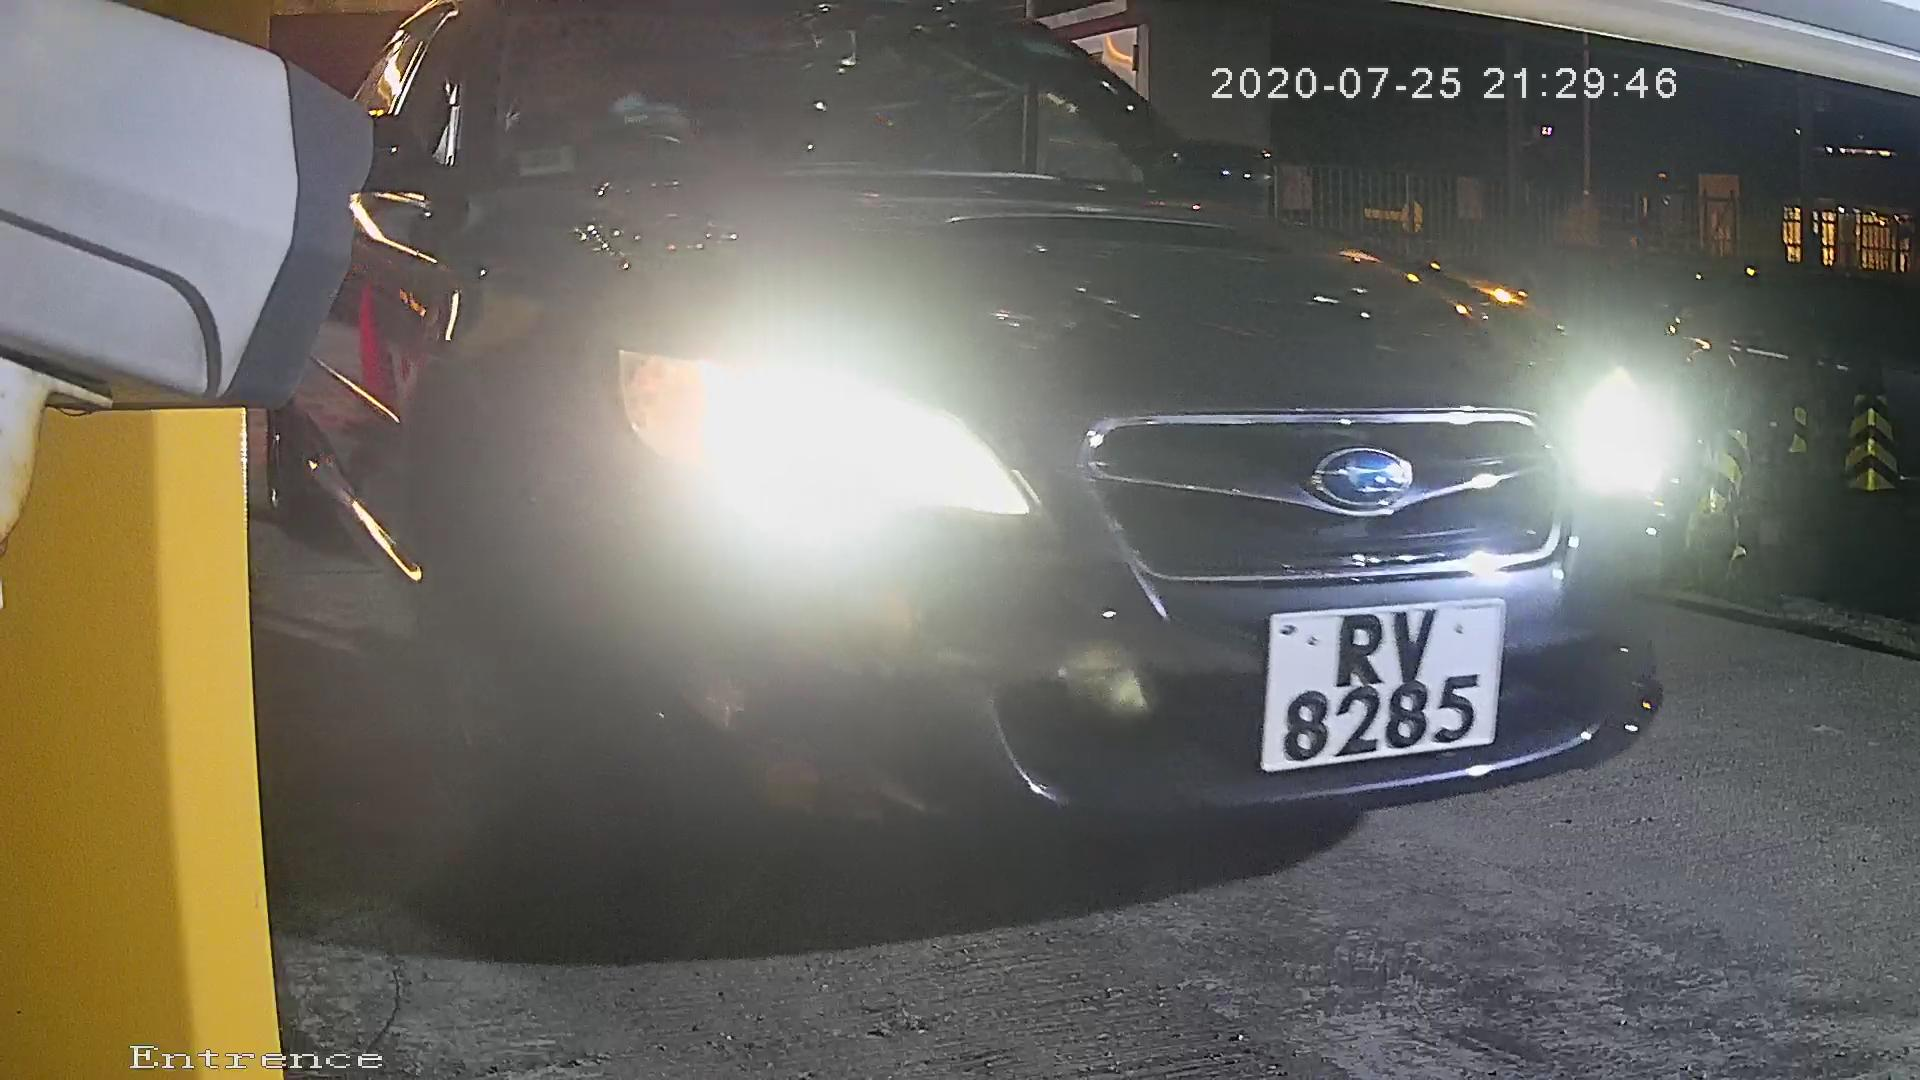Car: (103, 25, 1818, 921)
License Plate: (1235, 584, 1518, 791)
